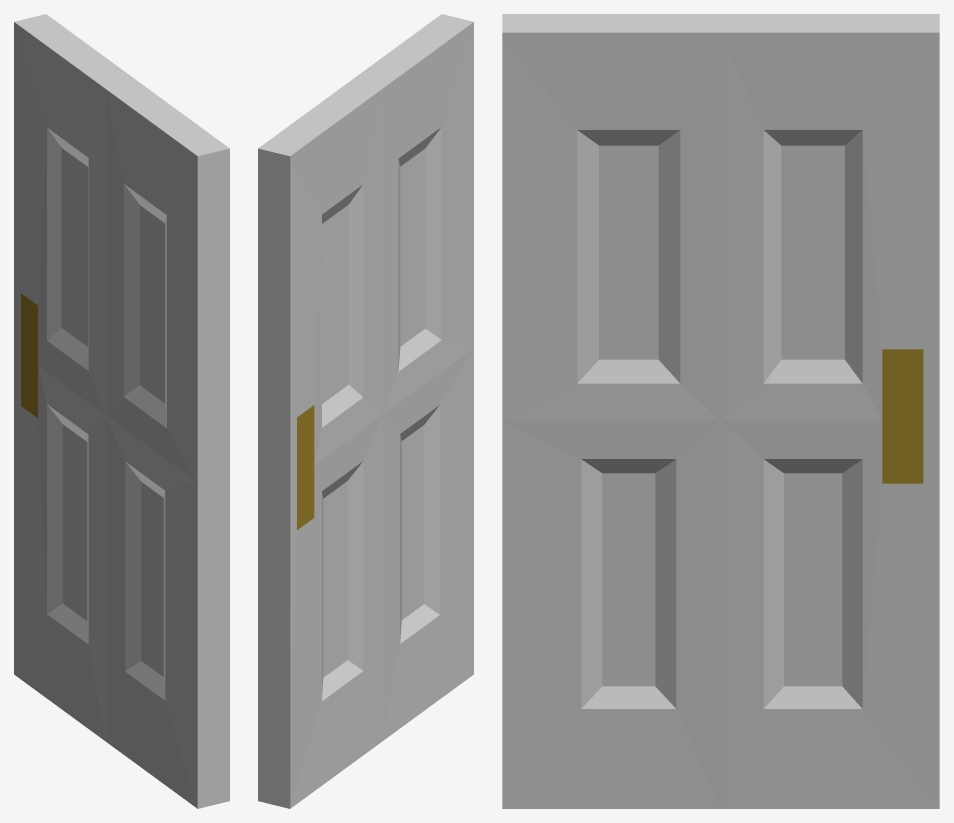
File: Door.fbx
3 renders of one model, left to right at view 1: azimuth 30°, elevation 25°; view 2: azimuth 150°, elevation 25°; view 3: azimuth 270°, elevation 25°, orthographic. The views are drawn at different scales.
Parts seen in each view (by area): view 1: Door; view 2: Door; view 3: Door.
Part boxes in pixels (box(x1,y1,x2,y2)): Door: box(14, 14, 229, 808); Door: box(258, 14, 473, 808); Door: box(502, 14, 939, 808).
Size of the model in its own units: 63.66 by 1235 by 630.
